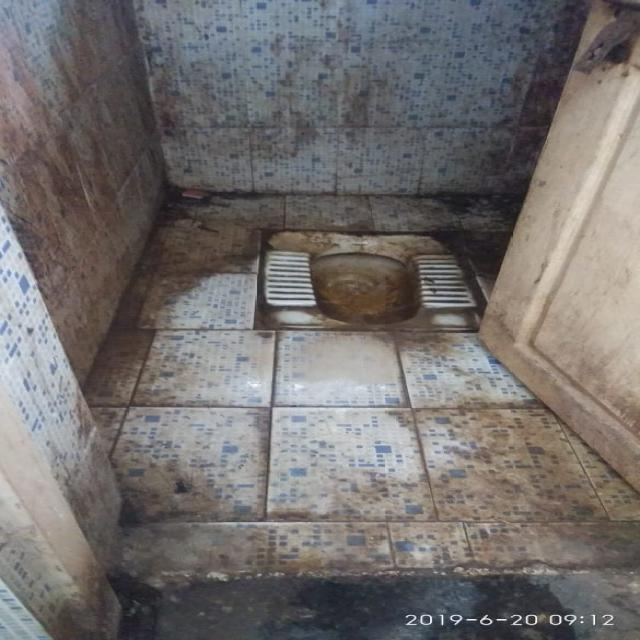dirty_floor: (99, 244, 636, 583), (129, 0, 591, 207)
